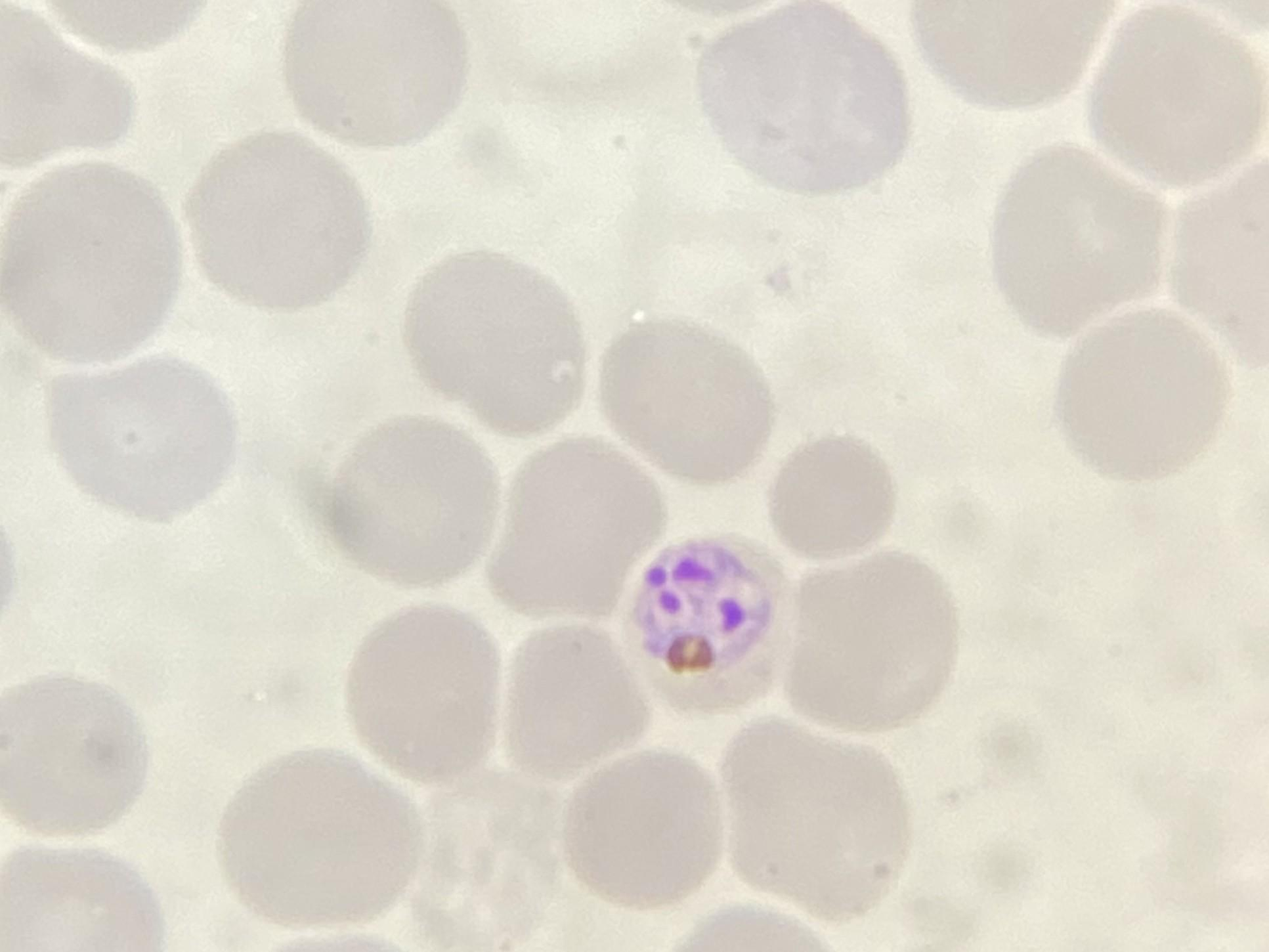Infected: (621, 530, 788, 715)
Uninfected: (694, 1, 915, 192), (219, 749, 430, 928), (724, 712, 906, 915), (0, 169, 185, 358), (495, 434, 667, 631), (188, 130, 369, 312), (998, 145, 1171, 334), (1090, 9, 1265, 195), (50, 355, 236, 528), (403, 255, 585, 431), (330, 417, 502, 594), (602, 320, 780, 485), (788, 557, 958, 729), (1064, 307, 1223, 483), (350, 607, 506, 782), (280, 0, 468, 144), (571, 740, 725, 904), (0, 673, 152, 831), (512, 624, 648, 785), (0, 843, 158, 952), (772, 438, 897, 560)
